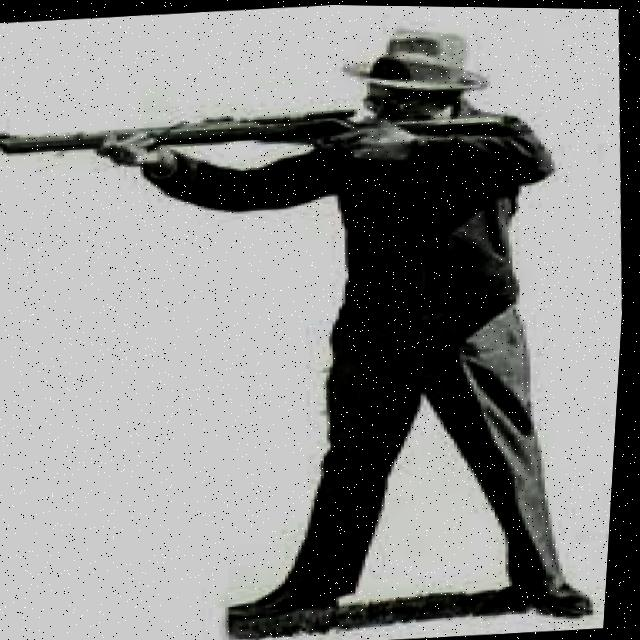firearm: (0, 90, 513, 169)
